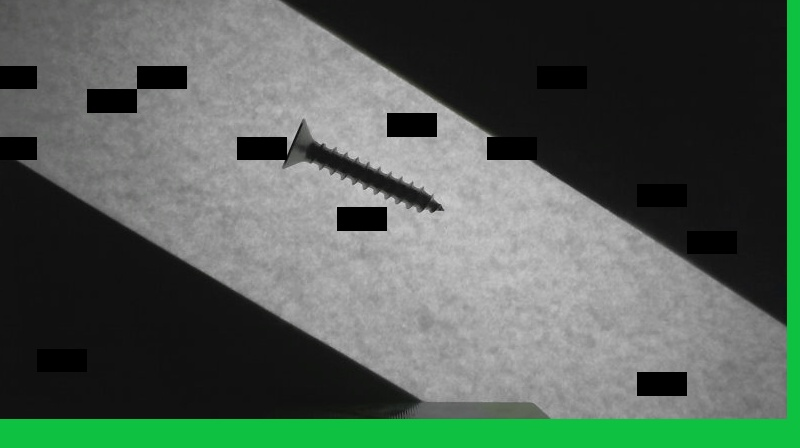S001: (279, 114, 447, 218)
